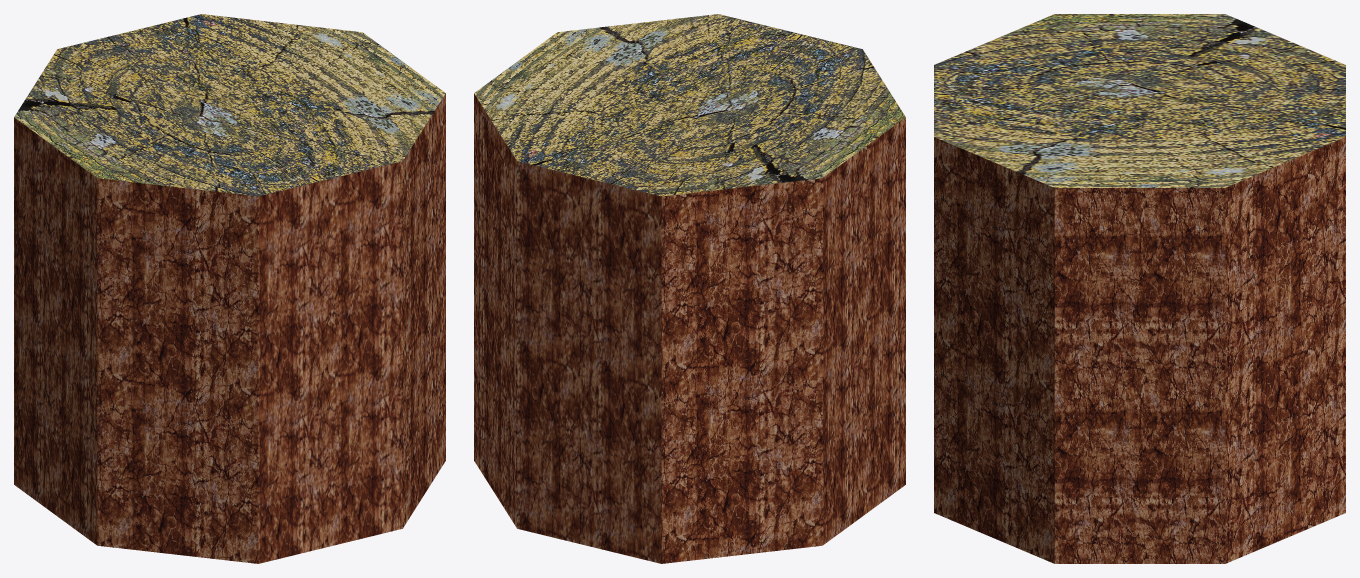
File: stump.obj
The picture shows the model from 3 angles, left to right: view 1: azimuth 30°, elevation 25°; view 2: azimuth 150°, elevation 25°; view 3: azimuth 270°, elevation 25°; orthographic projection. The views are drawn at different scales.
Parts seen in each view (by area): view 1: Cylinderブラシ.017_Cylinderブラシ.028; view 2: Cylinderブラシ.017_Cylinderブラシ.028; view 3: Cylinderブラシ.017_Cylinderブラシ.028.
Part boxes in pixels (x1,y1,x2,y2): Cylinderブラシ.017_Cylinderブラシ.028: (14,14,445,563); Cylinderブラシ.017_Cylinderブラシ.028: (474,14,905,563); Cylinderブラシ.017_Cylinderブラシ.028: (934,14,1345,563).
Bounding box in the file's own units: 4.5 × 4.54 × 4.5.
